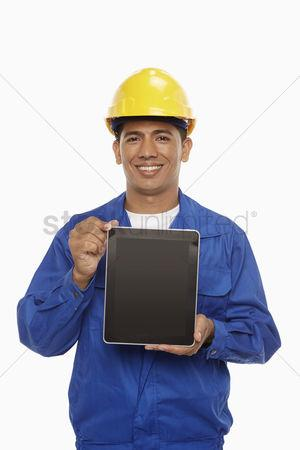helmet: (106, 69, 198, 134)
